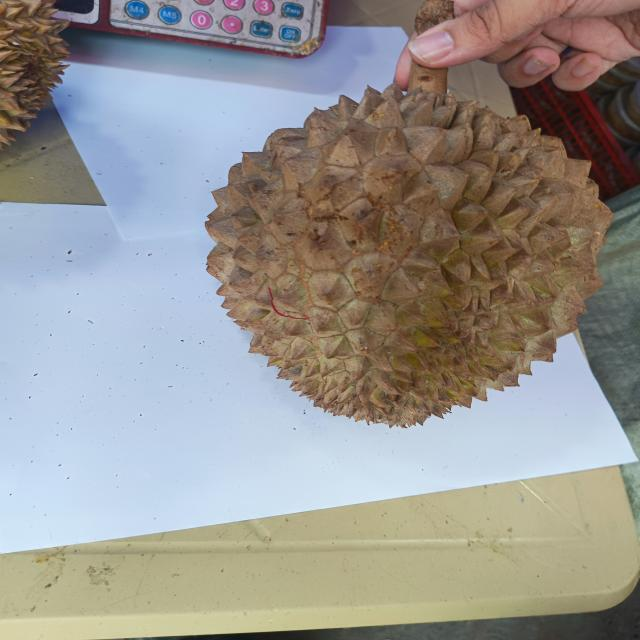mature: (198, 81, 612, 427), (0, 1, 71, 171)
